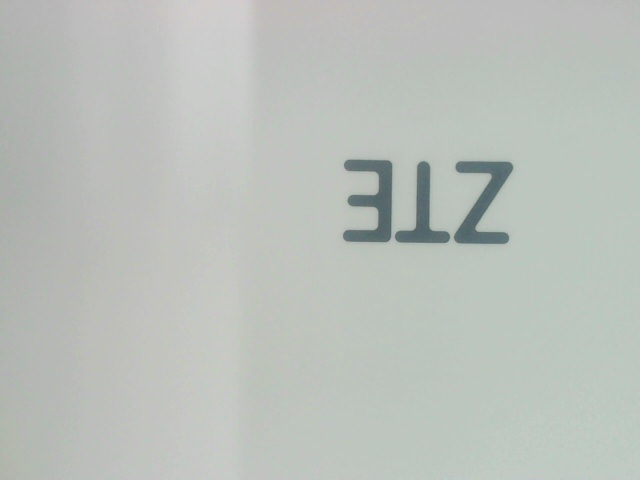AN_ZTE: (335, 148, 525, 249)
